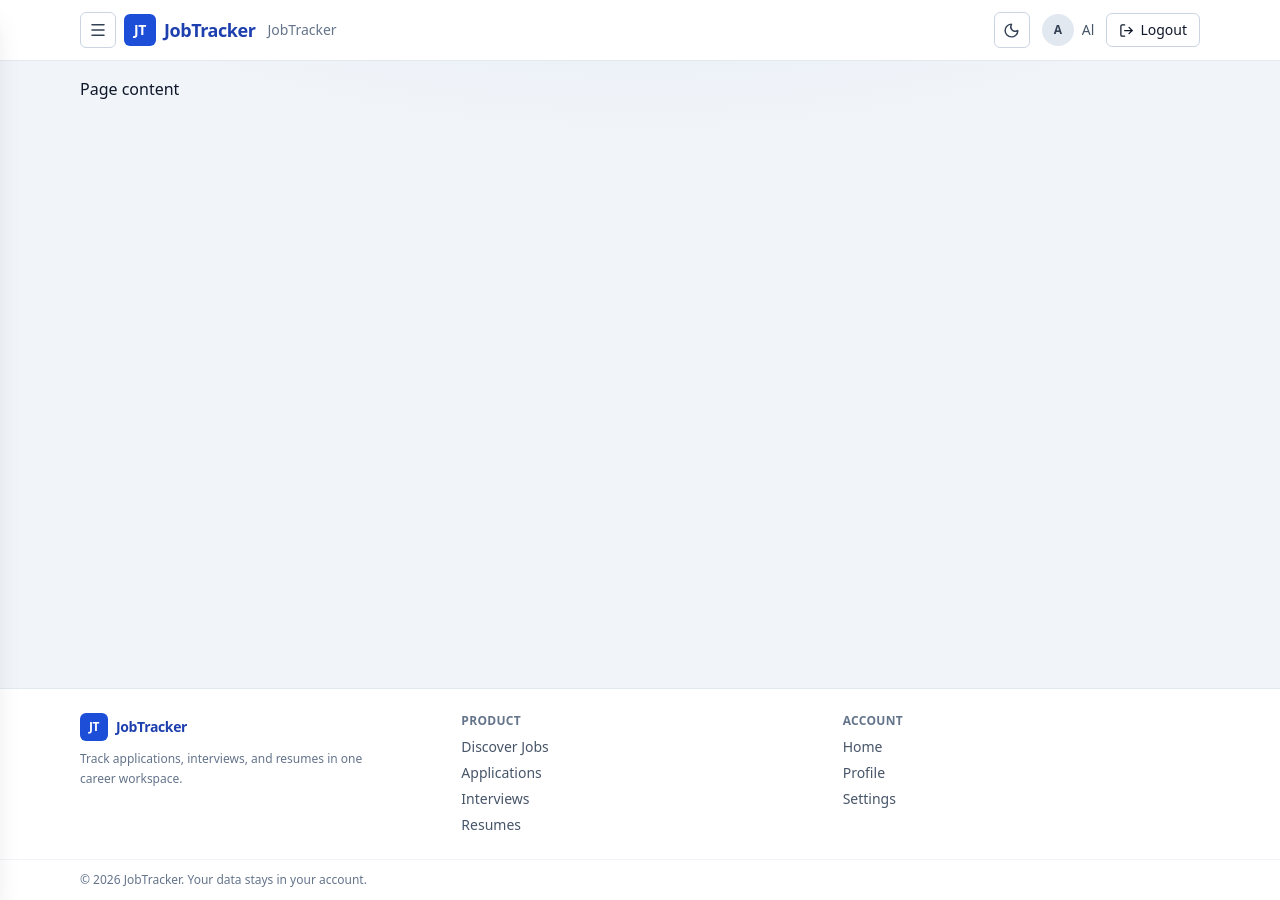
it: navigation drawer › opens the drawer with backdrop+blur and closes on backdrop click
The image size is (1280, 900).
Check: the text "Page content" is shown, box [80, 78, 179, 100]
Click the button named "Open navigation" at (98, 30), box [80, 12, 116, 48]
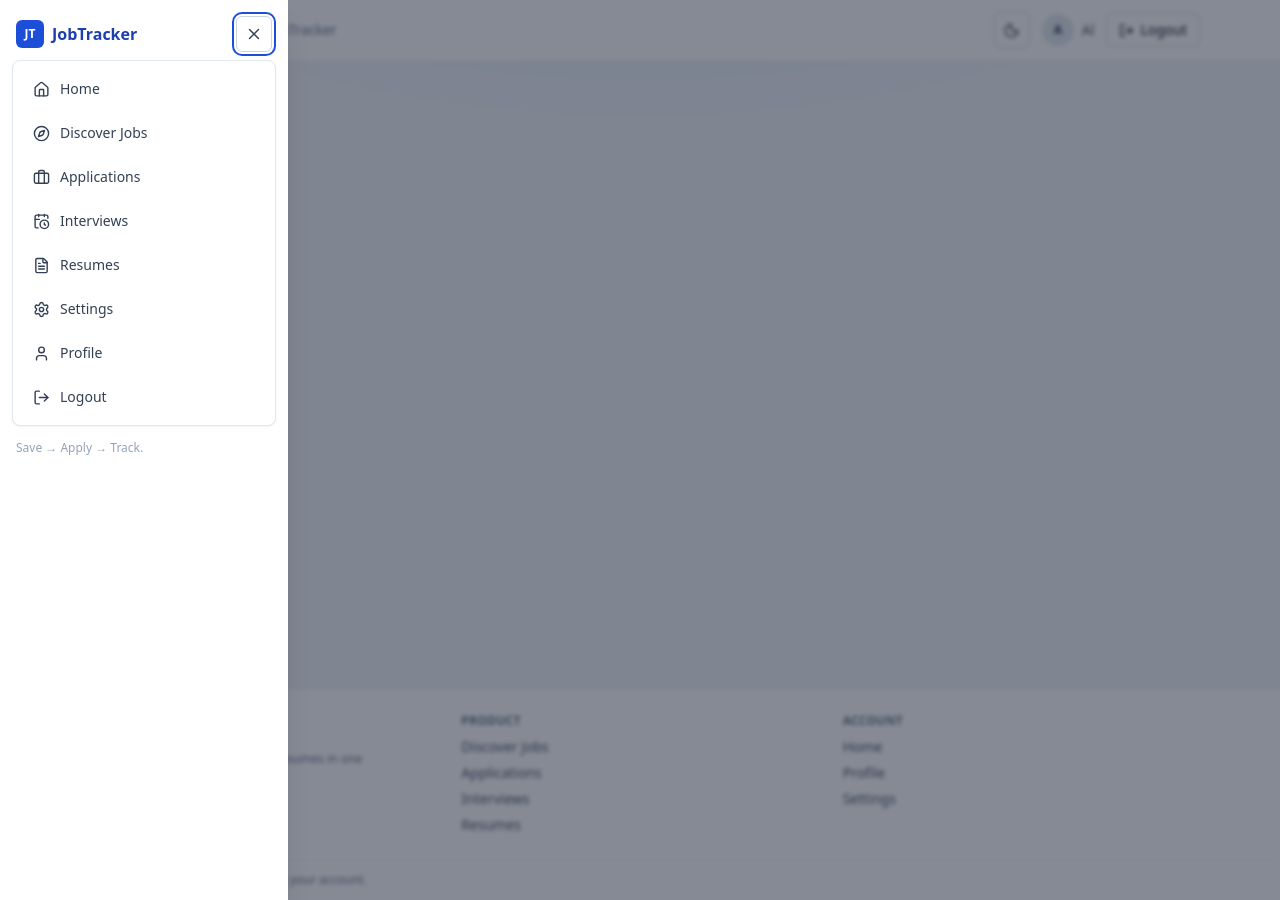
Click the element with test id "nav-backdrop" at (640, 450), box [0, 0, 1279, 899]
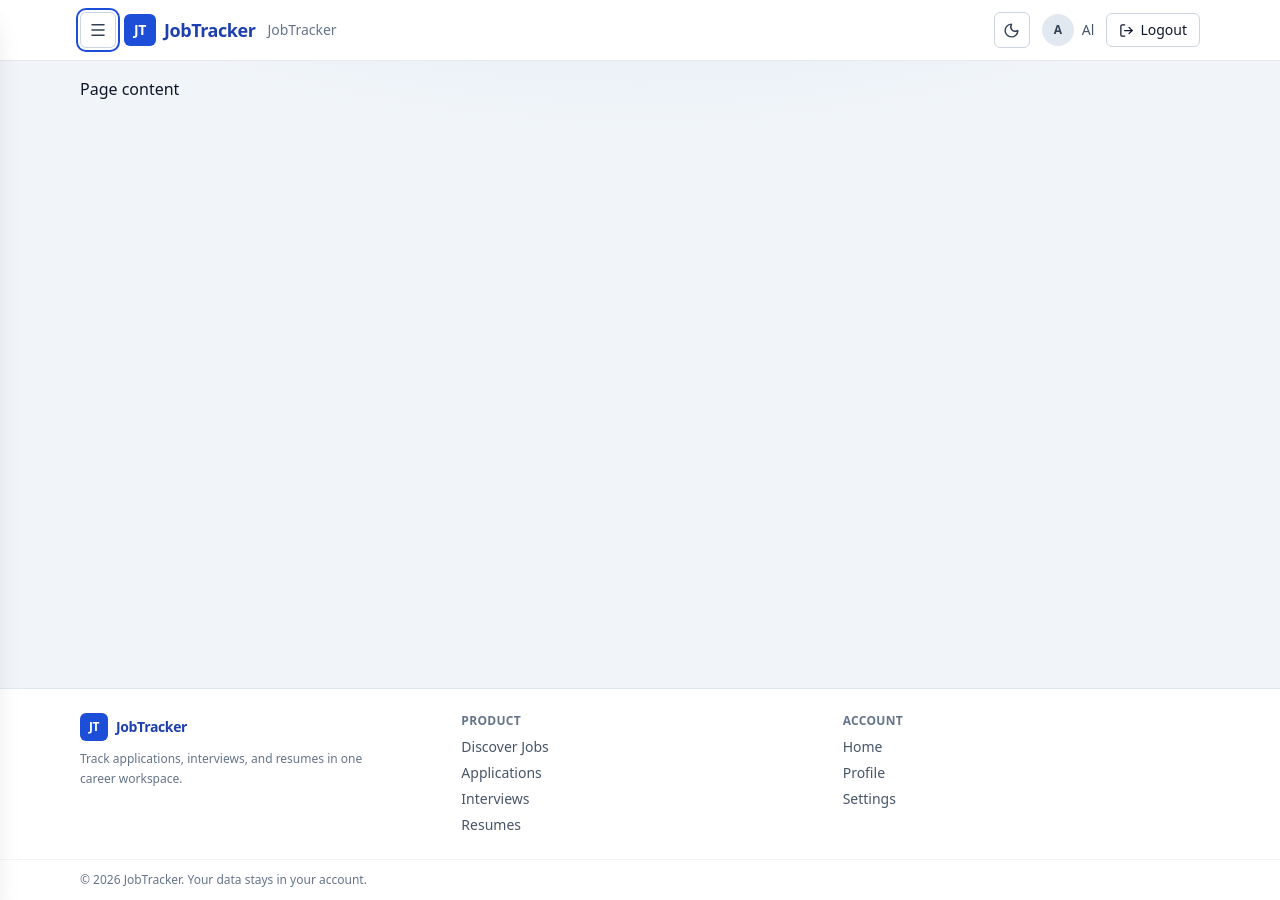
Check: the element with test id "nav-backdrop" is gone
